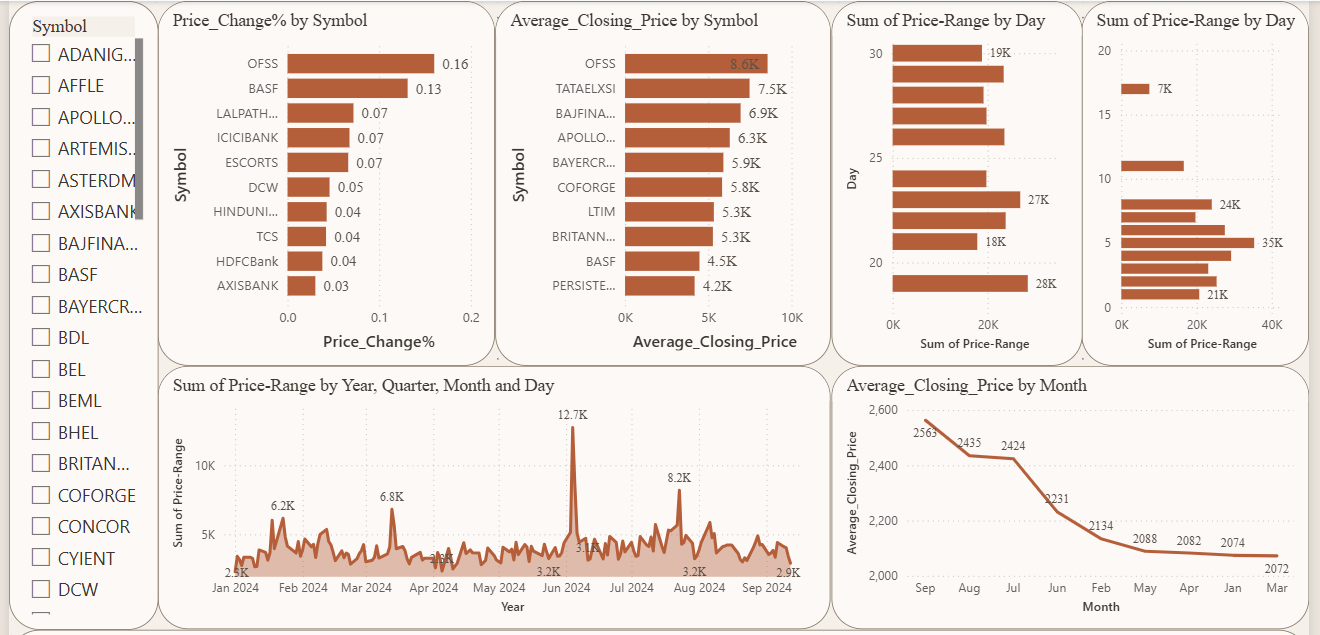

What the dashboard file says about the page in this screenshot:
{"tool":"powerbi","page":{"name":"Page 2","canvas":[1280,720],"ordinal":1},"visuals":[{"type":"lineChart","fields":{"Y":["Stockslive.Average_Closing_Price"],"Category":["Stockslive.Month"]},"box":[809.6,359.5,470.7,259.3],"z":0},{"type":"barChart","fields":{"Y":["Sum(Stockslive.Price-Range)"],"Category":["Stockslive.Day"]},"box":[1056.6,0,223.7,359.5],"z":1000},{"type":"barChart","fields":{"Y":["Sum(Stockslive.Price-Range)"],"Category":["Stockslive.Day"]},"box":[809.6,0,247,359.5],"z":2000},{"type":"barChart","fields":{"Y":["Stockslive.Average_Closing_Price"],"Category":["Stockslive.Symbol"]},"box":[478.9,0,330.7,359.5],"z":3000},{"type":"barChart","fields":{"Category":["Stockslive.Symbol"],"Y":["Stockslive.Price_Change%"]},"box":[146.8,0,332.1,359.5],"z":4000},{"type":"areaChart","fields":{"Y":["Sum(Stockslive.Price-Range)"],"Category":["Stockslive.Date.Variation.Date Hierarchy.Year","Stockslive.Date.Variation.Date Hierarchy.Quarter","Stockslive.Date.Variation.Date Hierarchy.Month","Stockslive.Date.Variation.Date Hierarchy.Day"]},"box":[146.8,359.5,662.8,259.3],"z":5000},{"type":"slicer","fields":{"Values":["Stockslive.Date"]},"box":[0,618.9,1280.3,101.5],"z":6000},{"type":"slicer","fields":{"Values":["Stockslive.Symbol"]},"box":[0,0,146.8,618.9],"z":7000}]}

Visuals, with their boxes on the page's 1280x720 design canvas (x1, y1, x2, y2). These are canvas units, not pixel positions in the 1320x635 screenshot, which may show the page scaled, cropped or inside an application window:
lineChart - Stockslive.Average_Closing_Price x Stockslive.Month: region(810, 360, 1280, 619)
barChart - Sum(Stockslive.Price-Range) x Stockslive.Day: region(1057, 0, 1280, 360)
barChart - Sum(Stockslive.Price-Range) x Stockslive.Day: region(810, 0, 1057, 360)
barChart - Stockslive.Average_Closing_Price x Stockslive.Symbol: region(479, 0, 810, 360)
barChart - Stockslive.Symbol x Stockslive.Price_Change%: region(147, 0, 479, 360)
areaChart - Sum(Stockslive.Price-Range) x Stockslive.Date.Variation.Date Hierarchy.Year: region(147, 360, 810, 619)
slicer - Stockslive.Date: region(0, 619, 1280, 720)
slicer - Stockslive.Symbol: region(0, 0, 147, 619)
